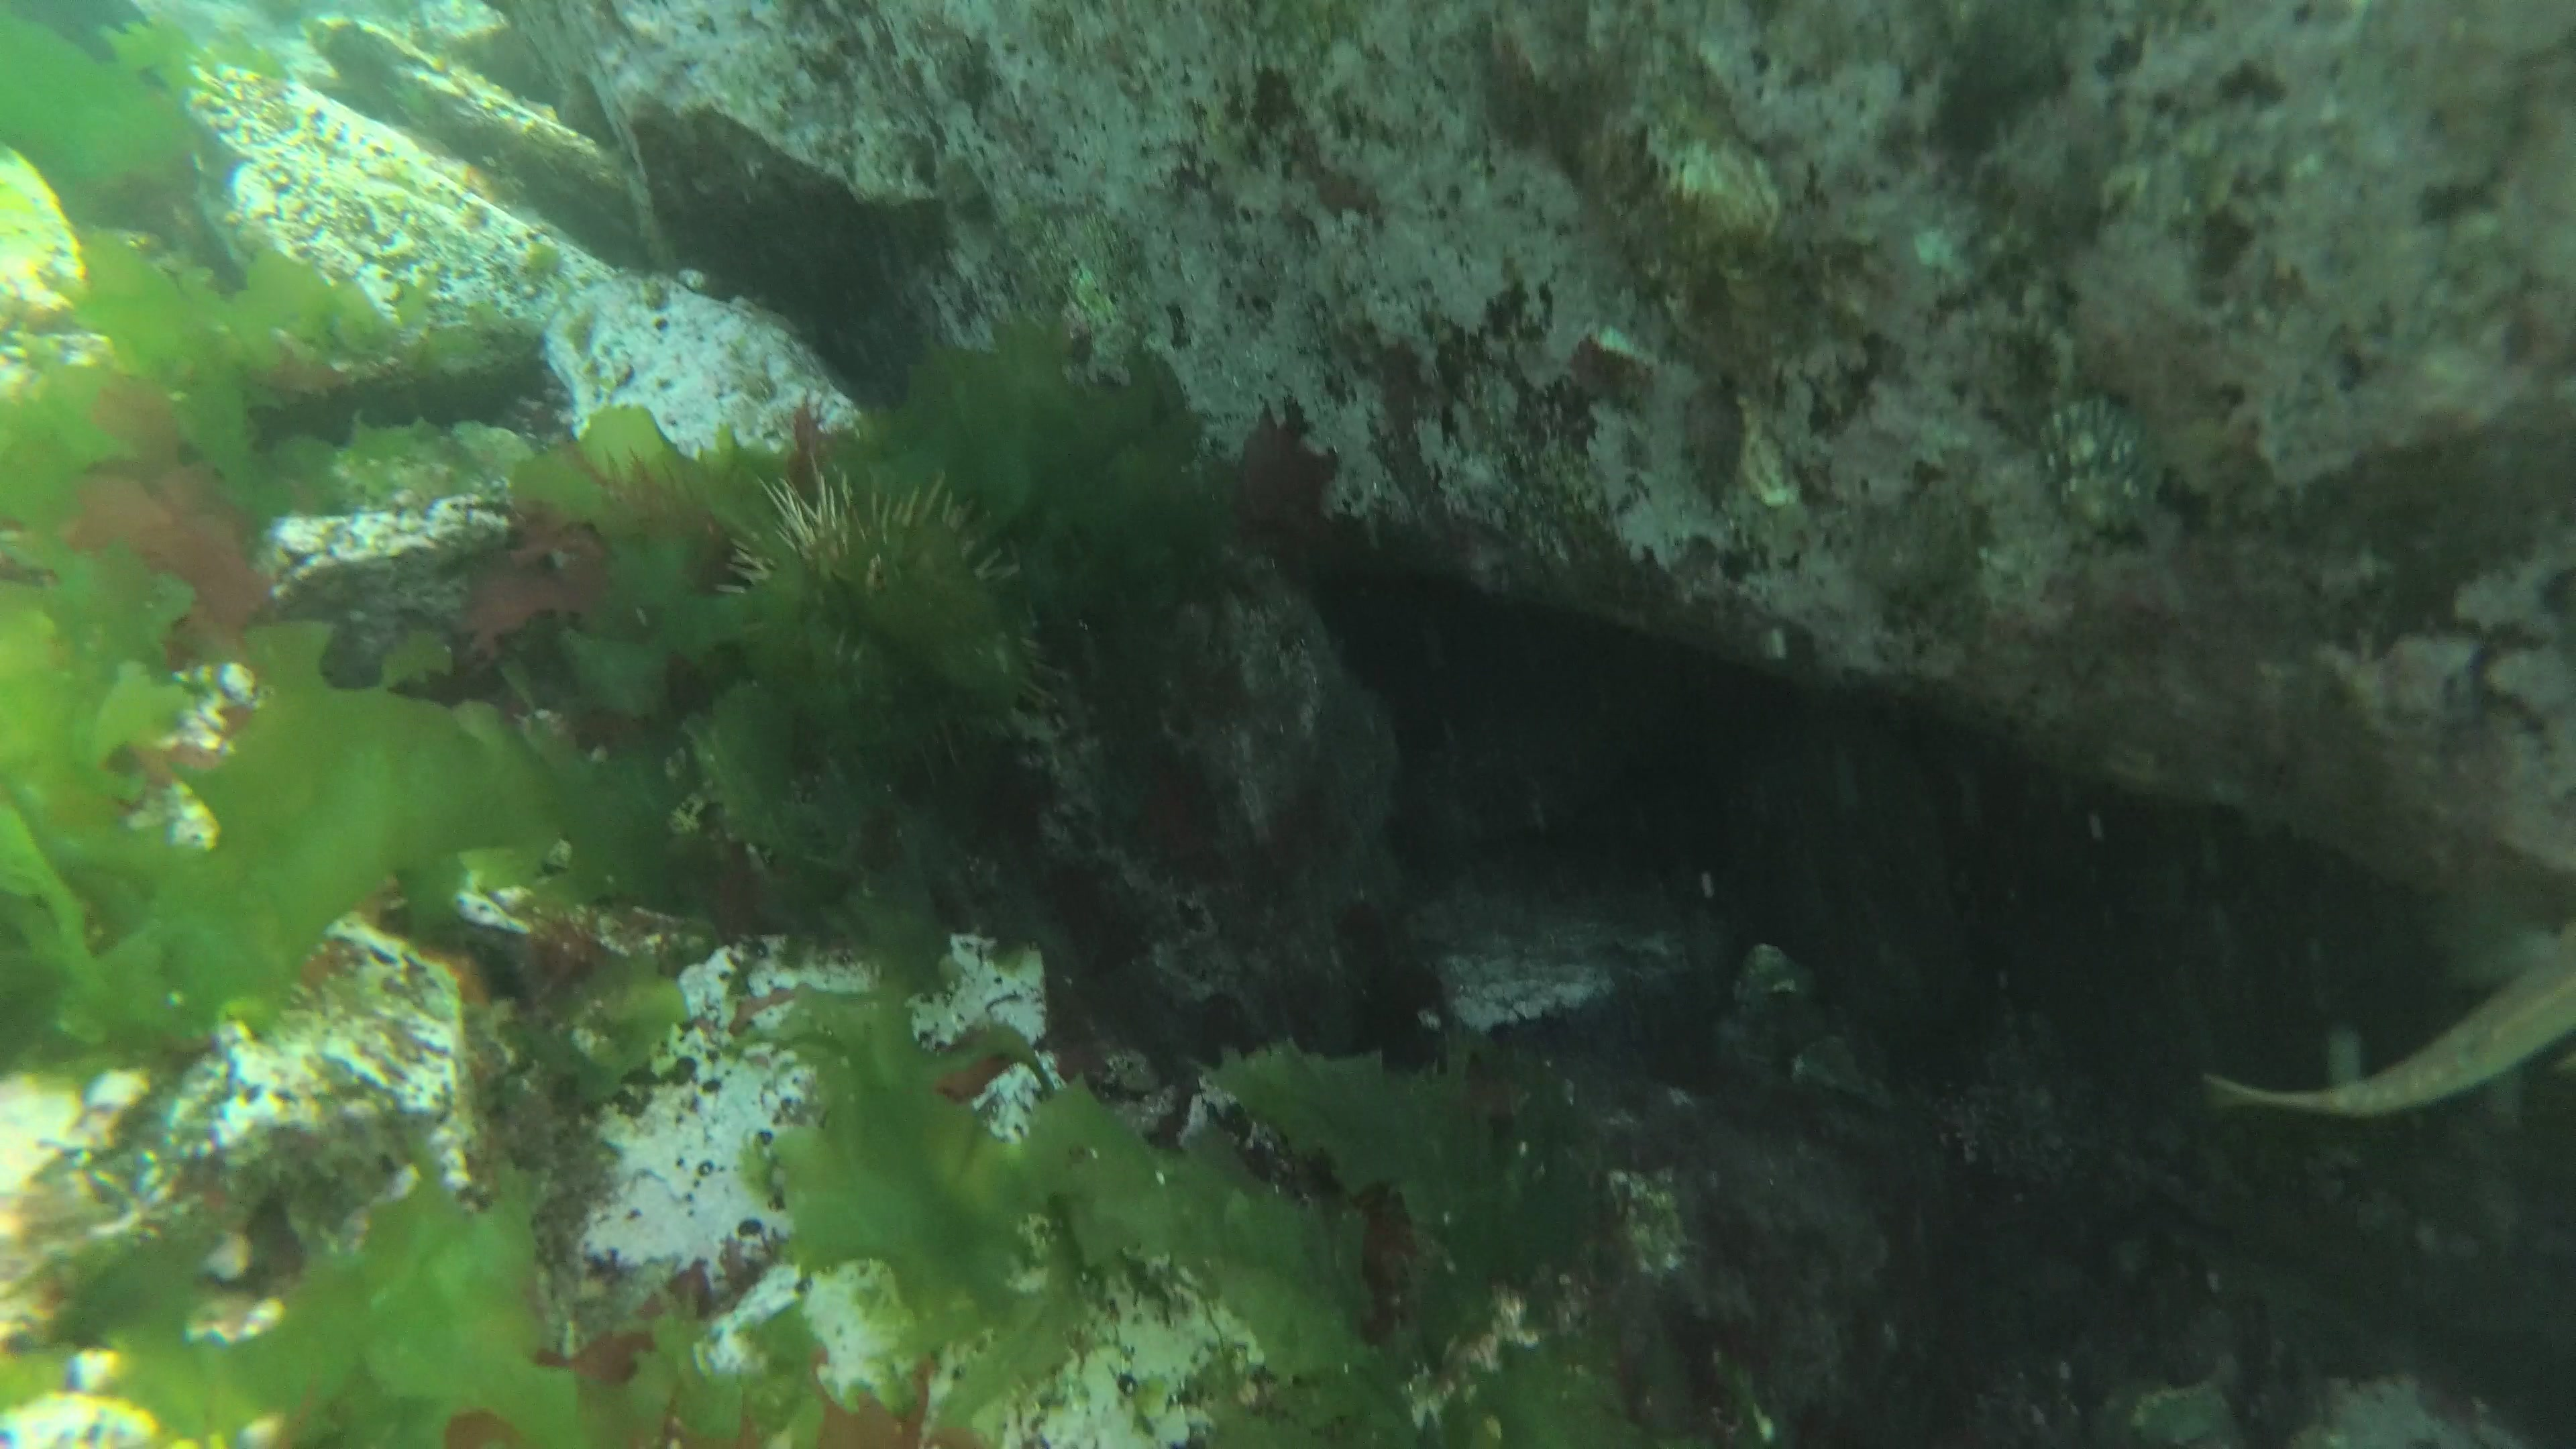echinus: (711, 465, 1074, 794)
